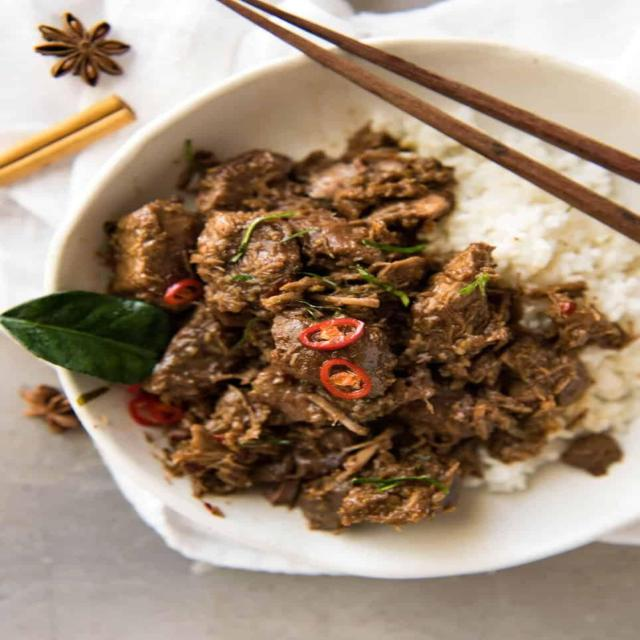Rendang: (106, 140, 634, 576)
